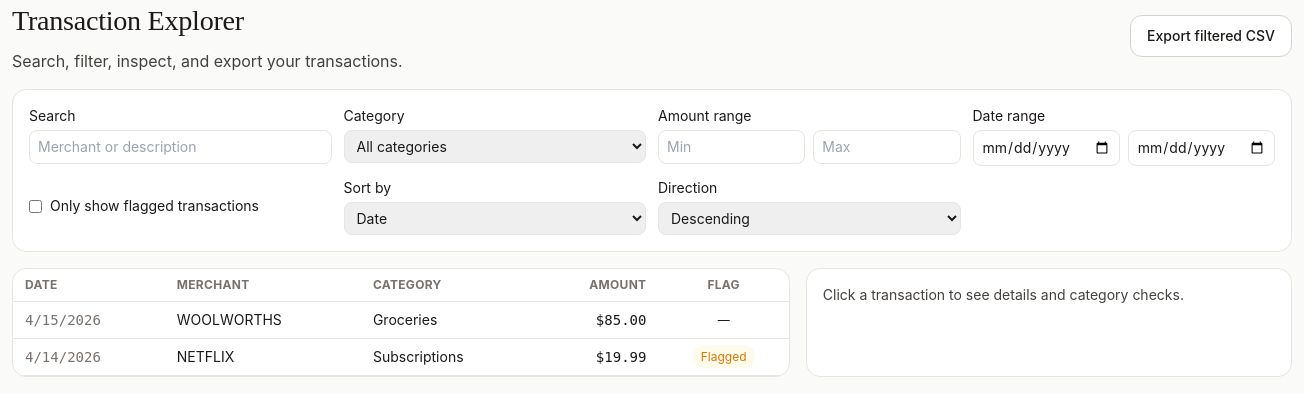
Scenario: TransactionTable › filters anomaly only
What coordinates should you click on to do the following:
click the checkbox with test id "filter-anomalies"
I would click on:
 (36, 206)
Its box is x1=29 y1=200 x2=42 y2=213.
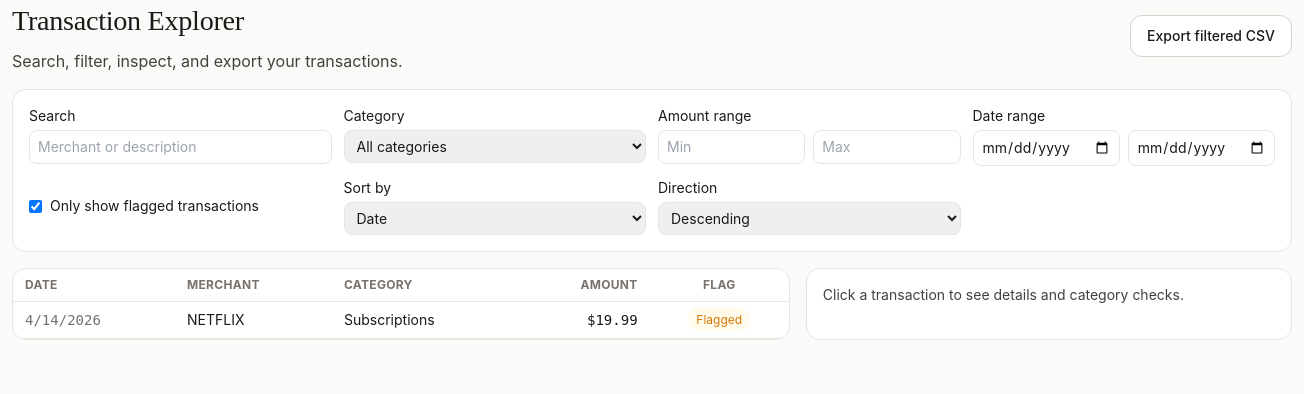
Expected: the text "NETFLIX" is shown, x1=175 y1=301 x2=332 y2=338
Expected: the text "WOOLWORTHS" is gone
